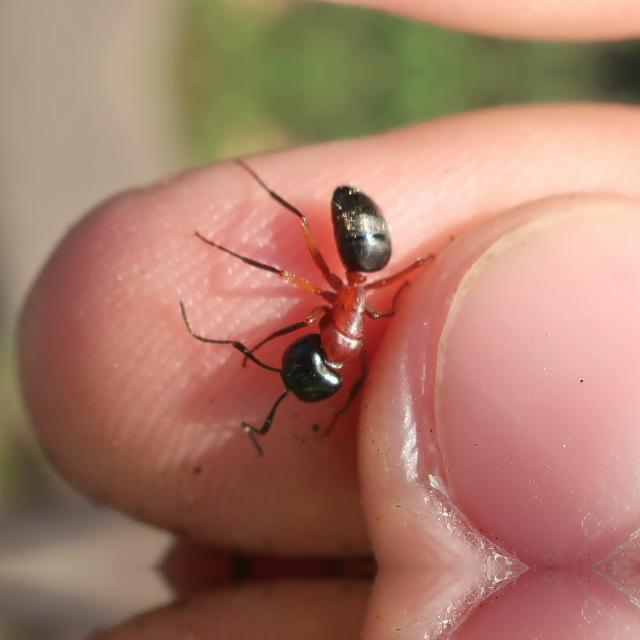Camponotus: (205, 165, 453, 432)
